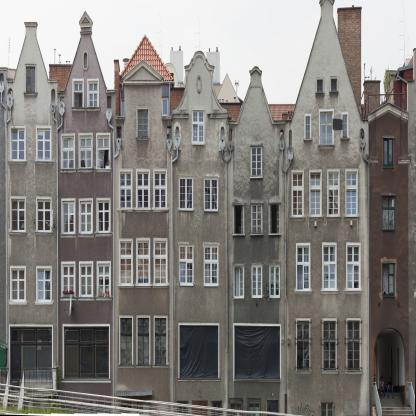Building Outline: (7, 0, 409, 416)
Cornice: (122, 59, 164, 84), (184, 51, 215, 73), (382, 135, 395, 139), (250, 144, 263, 147), (232, 202, 245, 205), (250, 202, 263, 205), (268, 202, 281, 204)
Door: (374, 328, 406, 407), (10, 343, 20, 390), (192, 400, 207, 415), (268, 401, 279, 416), (120, 402, 131, 416)
Facade: (7, 120, 408, 415)
Floor: (113, 227, 227, 304), (113, 304, 227, 381), (114, 156, 227, 227), (7, 185, 114, 251), (7, 252, 114, 318), (285, 310, 369, 393), (7, 122, 114, 185), (285, 236, 369, 310), (285, 162, 369, 236), (227, 315, 285, 394), (58, 317, 113, 394), (227, 253, 285, 315), (227, 193, 285, 253), (369, 114, 408, 185), (369, 185, 408, 248), (369, 249, 408, 310)
Floor Slab: (113, 376, 227, 381), (113, 300, 227, 305), (114, 222, 227, 227), (7, 117, 115, 122), (7, 246, 114, 251), (7, 180, 114, 185), (7, 313, 114, 318), (285, 230, 369, 236), (286, 156, 369, 162), (285, 388, 369, 393), (285, 304, 369, 309), (227, 309, 285, 315), (227, 388, 285, 394), (227, 187, 285, 193), (114, 151, 173, 156), (227, 247, 285, 252), (58, 389, 113, 394), (369, 179, 408, 184), (369, 243, 408, 248), (369, 304, 408, 309)
Ground Floor: (7, 317, 58, 416), (113, 381, 227, 416), (369, 309, 408, 407), (285, 393, 369, 416), (227, 394, 285, 416), (58, 394, 113, 415)
Sill: (61, 378, 112, 383), (177, 377, 221, 382), (233, 378, 281, 382), (95, 168, 112, 173), (95, 296, 112, 301), (95, 232, 112, 237), (35, 232, 53, 236), (9, 232, 27, 236), (35, 302, 53, 306), (9, 302, 27, 306), (60, 297, 77, 301), (77, 169, 94, 173), (60, 169, 77, 173), (78, 297, 95, 301), (152, 209, 169, 213), (117, 209, 134, 213), (135, 209, 152, 213), (118, 284, 135, 288), (152, 284, 169, 288), (135, 284, 152, 288), (135, 364, 152, 368), (321, 370, 338, 374), (295, 370, 312, 374), (321, 290, 338, 294), (295, 291, 312, 295), (318, 145, 335, 149), (78, 235, 94, 239), (60, 235, 76, 239), (153, 364, 169, 368), (118, 364, 134, 368), (23, 92, 38, 96), (344, 216, 359, 220), (290, 217, 305, 221), (308, 217, 323, 221), (326, 217, 341, 221), (8, 161, 27, 164), (86, 107, 100, 111), (71, 107, 85, 111), (136, 137, 150, 141), (35, 161, 53, 164), (249, 176, 264, 179), (268, 234, 282, 237), (303, 138, 313, 142), (315, 93, 325, 97), (329, 92, 339, 96), (232, 234, 245, 237), (250, 234, 263, 237), (382, 166, 395, 169), (340, 138, 350, 141)
Top Floor: (286, 15, 369, 162), (58, 37, 116, 121), (172, 72, 227, 156), (7, 35, 58, 121), (227, 120, 285, 193), (115, 85, 173, 156)
Window: (234, 326, 280, 379), (64, 326, 109, 379), (180, 326, 218, 379), (21, 326, 52, 380), (347, 320, 360, 370), (323, 320, 336, 370), (179, 244, 194, 286), (297, 320, 309, 370), (204, 244, 218, 286), (137, 318, 149, 365), (120, 318, 132, 365), (348, 245, 360, 290), (324, 245, 336, 290), (381, 194, 396, 230), (155, 241, 167, 285), (120, 241, 132, 285), (137, 241, 149, 285), (297, 246, 309, 290), (155, 318, 166, 365), (204, 176, 218, 212), (346, 171, 357, 216), (179, 176, 193, 211), (328, 172, 339, 216), (37, 268, 51, 301), (11, 268, 25, 301), (37, 199, 51, 232), (11, 199, 25, 232), (154, 171, 166, 209), (137, 171, 149, 209), (11, 127, 24, 161), (320, 111, 333, 145), (383, 262, 396, 296), (293, 173, 303, 217), (311, 172, 321, 216), (192, 109, 204, 145), (37, 128, 50, 161), (97, 135, 110, 168), (120, 171, 131, 209), (62, 135, 74, 168), (80, 135, 92, 168), (98, 264, 110, 297), (63, 264, 75, 297), (80, 264, 92, 297), (98, 200, 110, 233), (62, 201, 74, 234), (80, 201, 92, 234), (269, 265, 280, 299), (234, 265, 245, 299), (252, 265, 263, 299), (269, 204, 281, 233), (233, 205, 245, 234), (251, 205, 263, 234), (251, 147, 262, 176), (138, 109, 149, 137), (384, 138, 394, 166), (88, 81, 98, 107), (26, 67, 35, 93), (74, 81, 83, 107), (137, 401, 151, 415), (10, 326, 20, 343), (321, 402, 333, 416), (177, 400, 188, 415), (231, 402, 242, 415), (249, 402, 260, 415), (212, 401, 222, 415), (343, 115, 347, 137), (306, 116, 310, 138), (317, 79, 323, 92), (331, 79, 337, 91)
dont: (0, 384, 301, 416)
